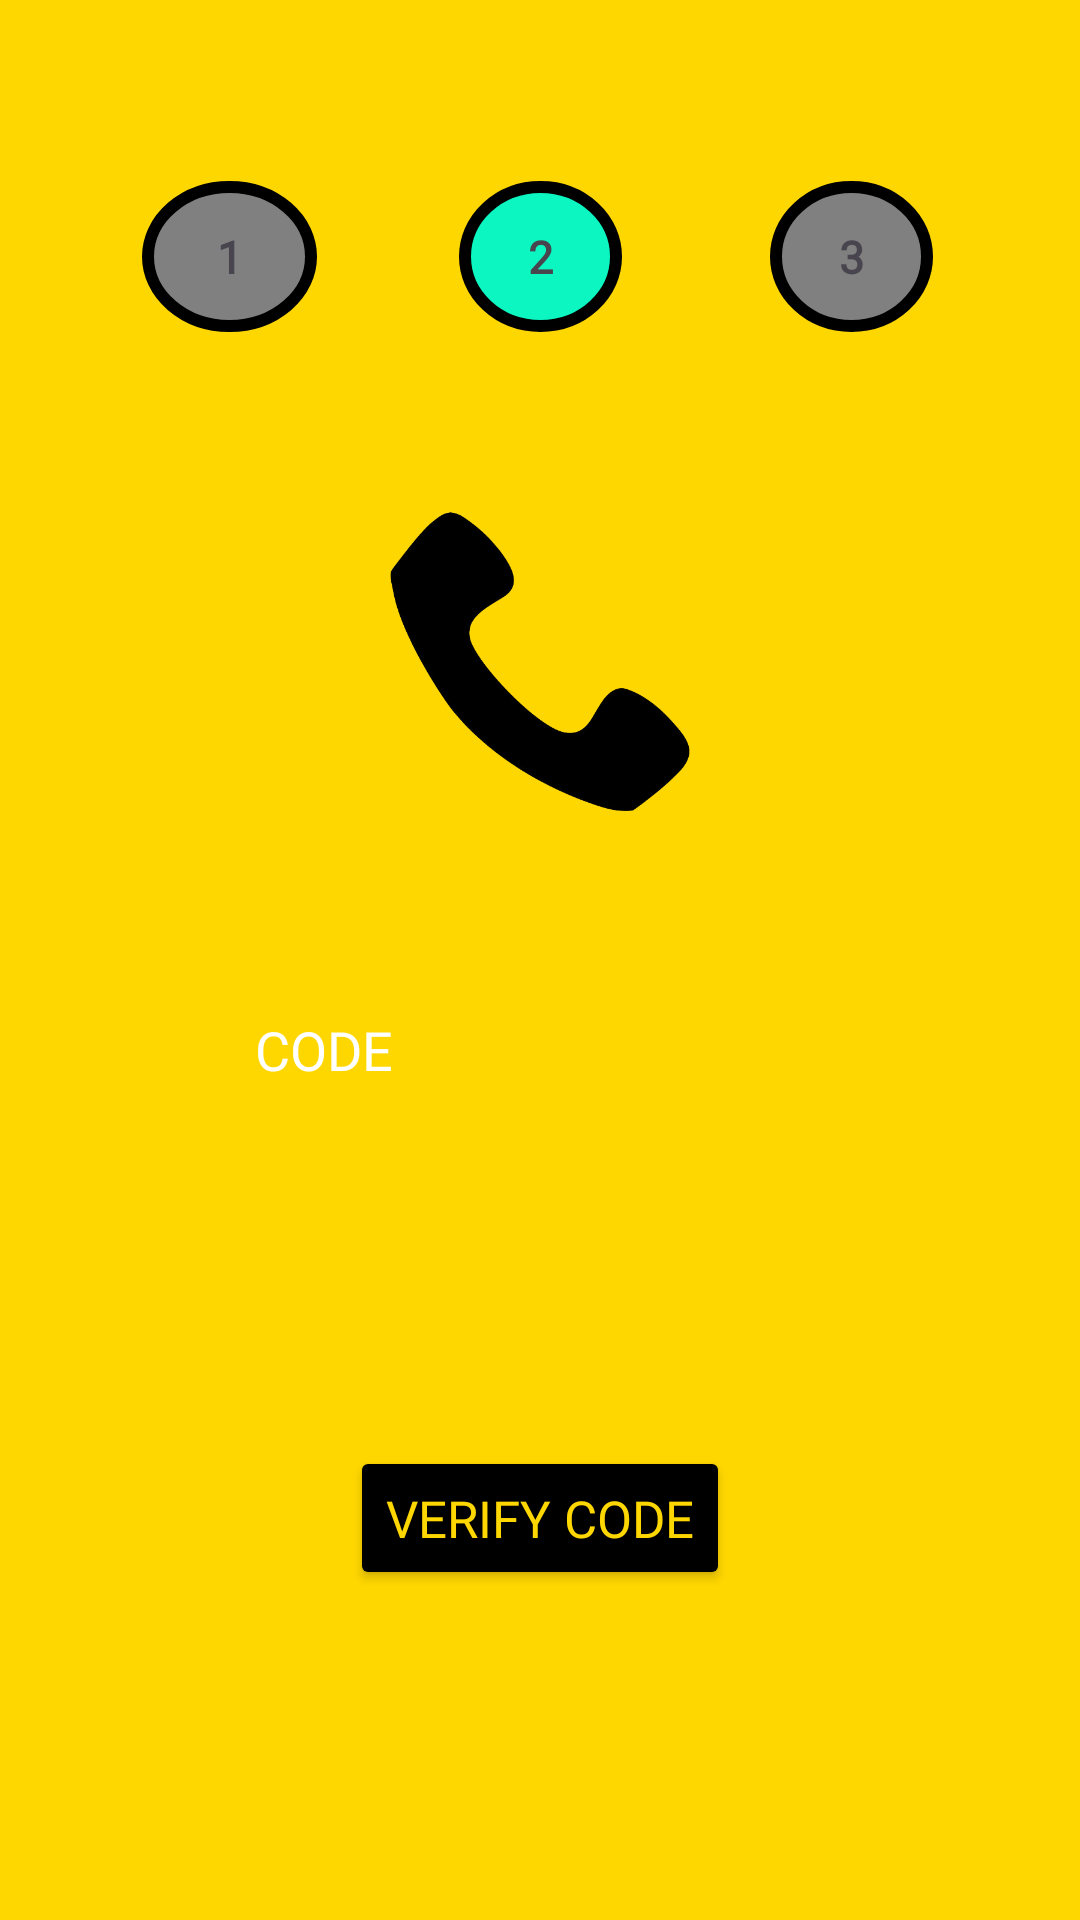

Locate icon controls on the screen. Image size 1080 x 1920, boxes as (x1, y1, x2, y2).
phone: (390, 512, 690, 811)
